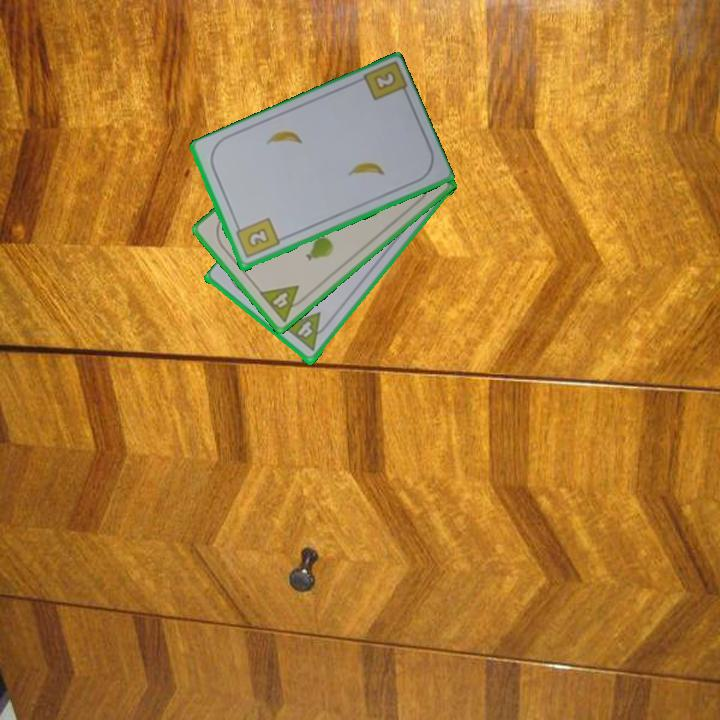2b: (232, 215, 282, 261), (372, 70, 397, 91)
4p: (256, 282, 310, 325), (282, 309, 321, 344)
